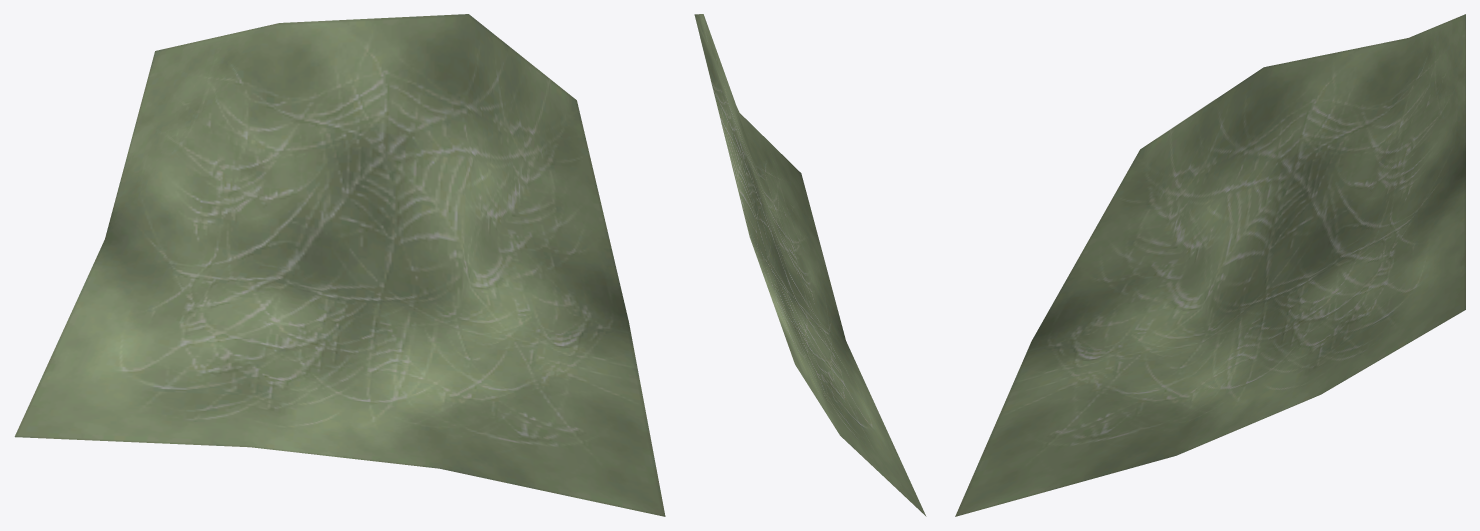
Rendered from cobweb1.fbx.
The picture shows the model from 3 angles, left to right: view 1: azimuth 30°, elevation 25°; view 2: azimuth 150°, elevation 25°; view 3: azimuth 270°, elevation 25°; orthographic projection. The views are drawn at different scales.
Visible parts, largest first — view 1: cobwebs1; view 2: cobwebs1; view 3: cobwebs1.
Part boxes in pixels (<box>): cobwebs1: <box>14,14,665,516</box>; cobwebs1: <box>694,14,926,516</box>; cobwebs1: <box>955,14,1465,516</box>.
Bounding box in the file's own units: 2.71 × 2.59 × 2.82.
